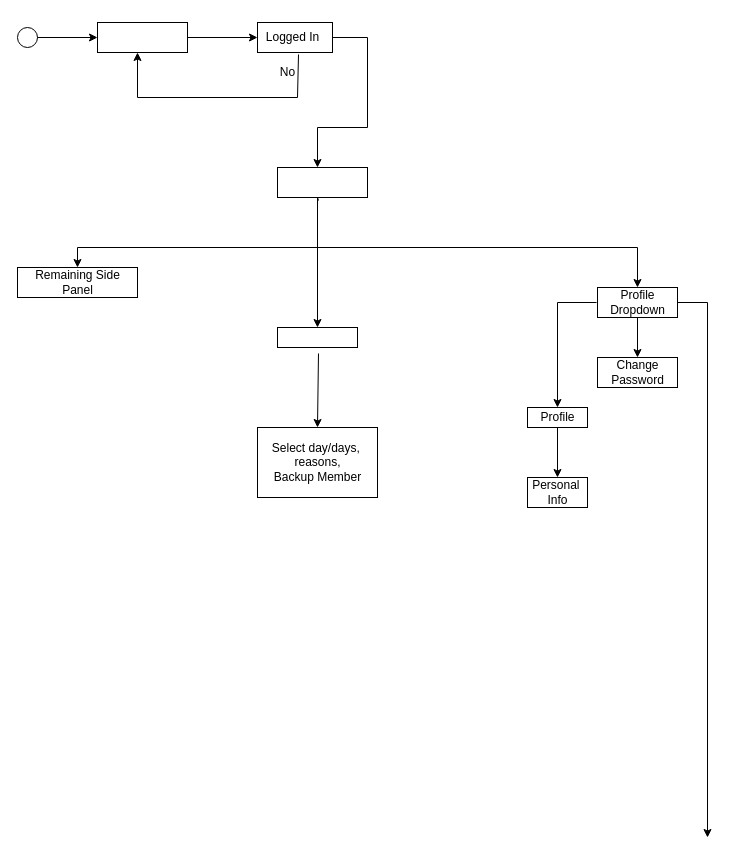
The diagram is 733 pixels wide and 863 high, and some of its shapes have lost their labels. The centre of each missing label's shape, as x and y in pixels:
"Apply Leave" belongs at point (317, 337).
"Dashboard" belongs at point (322, 182).
"Enter Login Credentials" belongs at point (142, 37).
